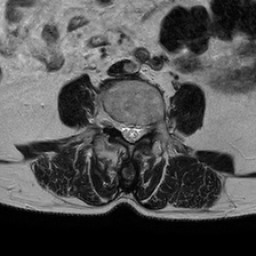CCS_normal: (128, 116, 134, 150)
LFS_normal: (144, 115, 152, 141)
LLS_normal: (134, 116, 142, 145)
RFS_normal: (113, 109, 120, 137)
RLS_normal: (120, 115, 128, 145)
